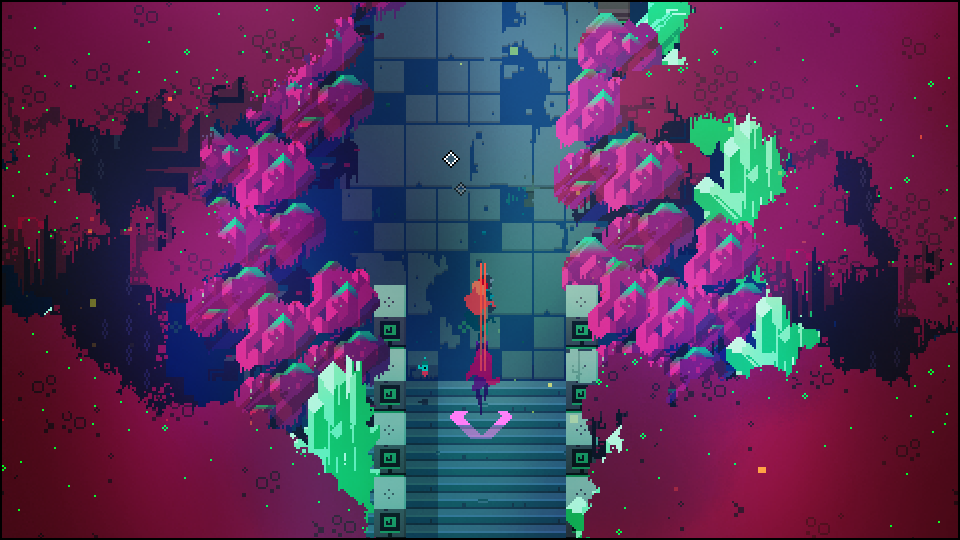player: (461, 274, 495, 329)
